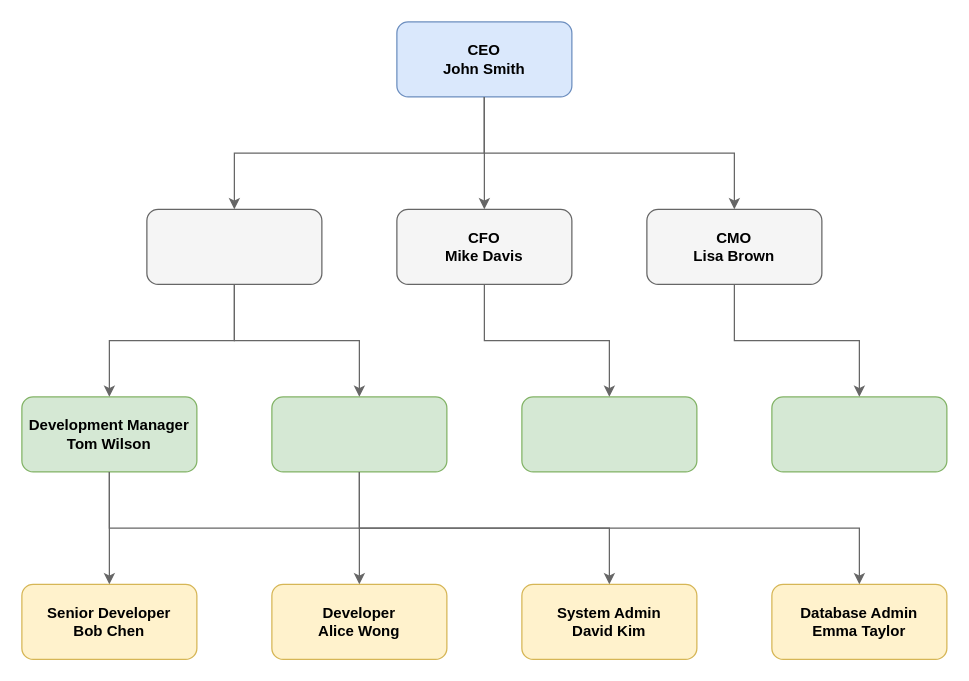
This 969x681 diagram has some shape labels left out. The box of each missing label's shape, as (x1, y1, x2, y2) in pixels:
Accounting Manager James Miller: (521, 396, 697, 472)
CTO Sarah Johnson: (146, 208, 322, 284)
Marketing Manager Rachel Green: (771, 396, 947, 472)
Operations Manager Anna Lee: (271, 396, 447, 472)
